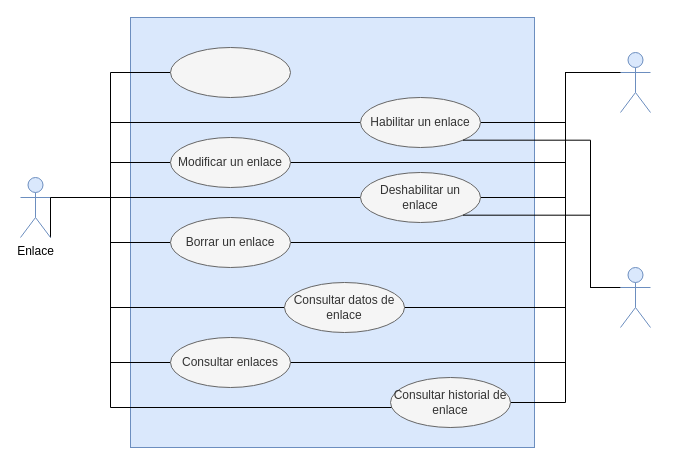
The diagram is 682 pixels wide and 465 high, and some of its shapes have lost their labels. The shapes that lost their labels are listed below. From the top down, each one's centre as x and y in pixels, then its label:
the point at 230,72: Añadir un enlace
the point at 635,82: Usuario
the point at 635,297: Dispositivo
